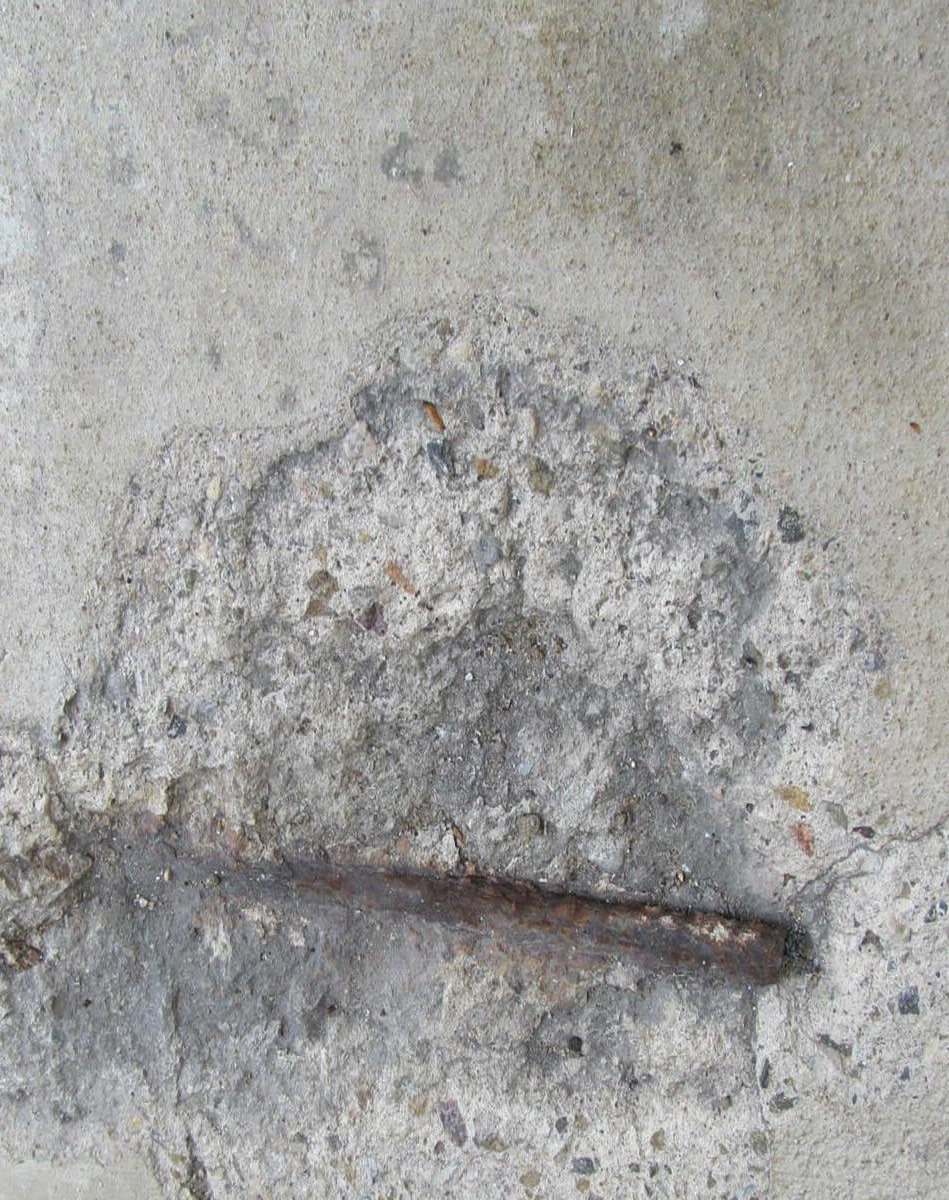Exposed reinforcement: (271, 861, 791, 982)
Spalling: (1, 291, 949, 1200)
